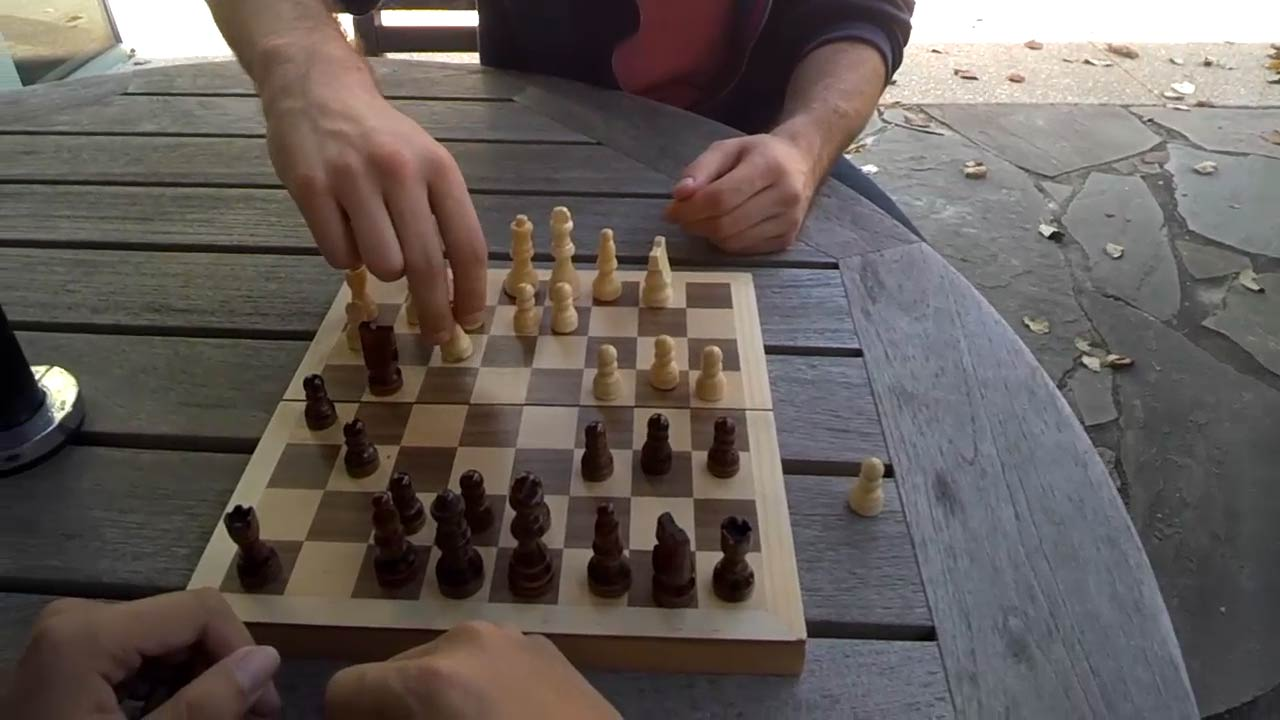hand: (262, 50, 484, 346), (2, 591, 275, 717), (324, 624, 623, 715), (670, 137, 814, 253)
